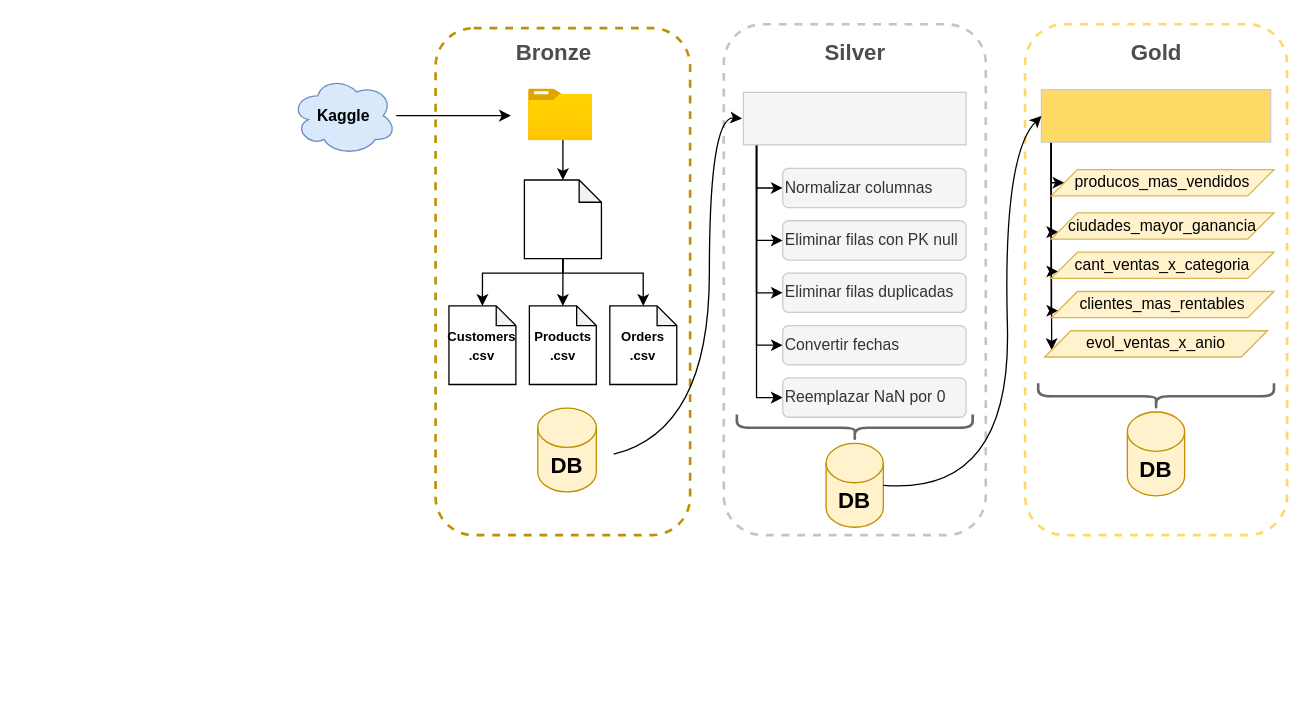
This 1310x714 diagram has some shape labels left out. The shapes that lost their labels are listed below. From the top down, each one's centre as x and y in pixels, then its label:
At point 560,114: "Raw".
At point 854,118: "Limpieza y Normalización de datos".
At point 1155,115: "Transformaciones de negocio Visualización de datos".
At point 562,219: "Supertore .csv".
